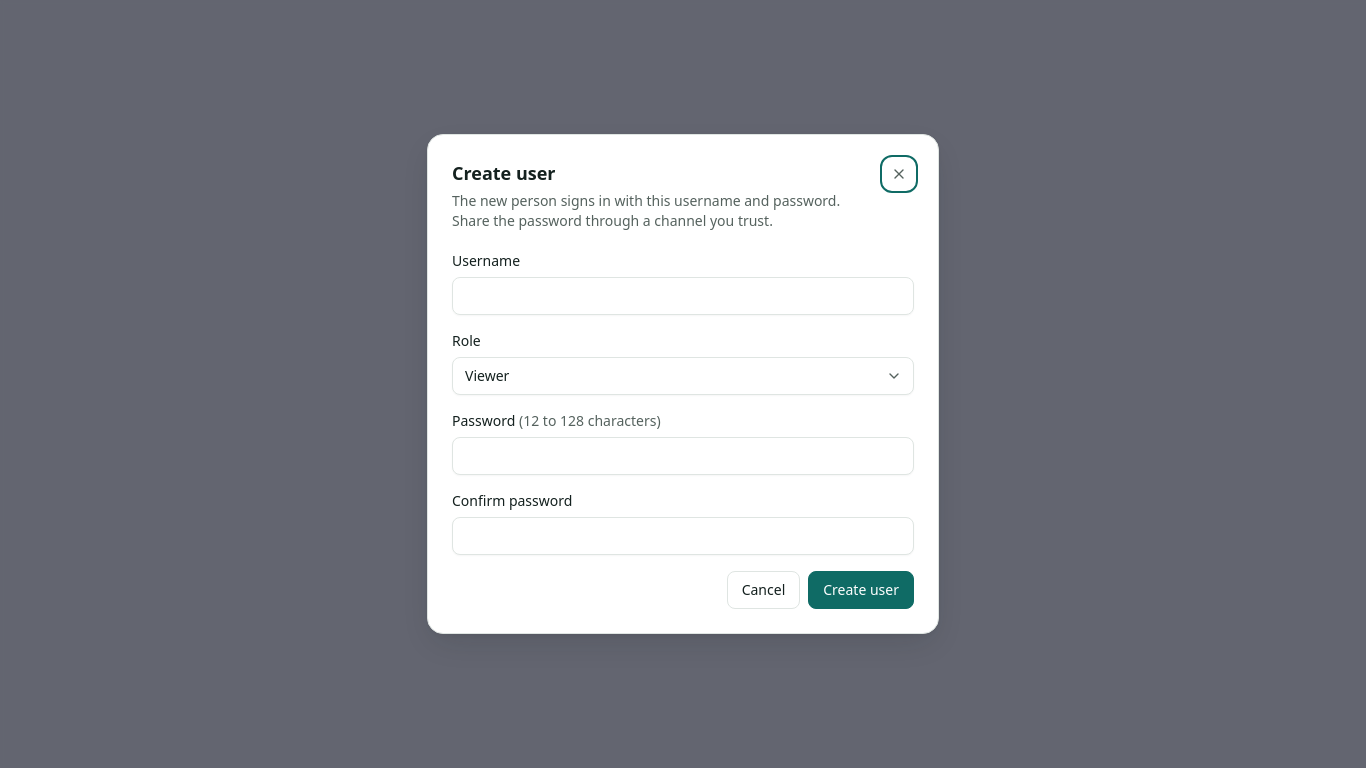
Scenario: CreateUserDialog › shows the 409 text inline when the username is taken
In the field labelled "Username": {"x": 683, "y": 296} [452,277,914,315], type "alice"
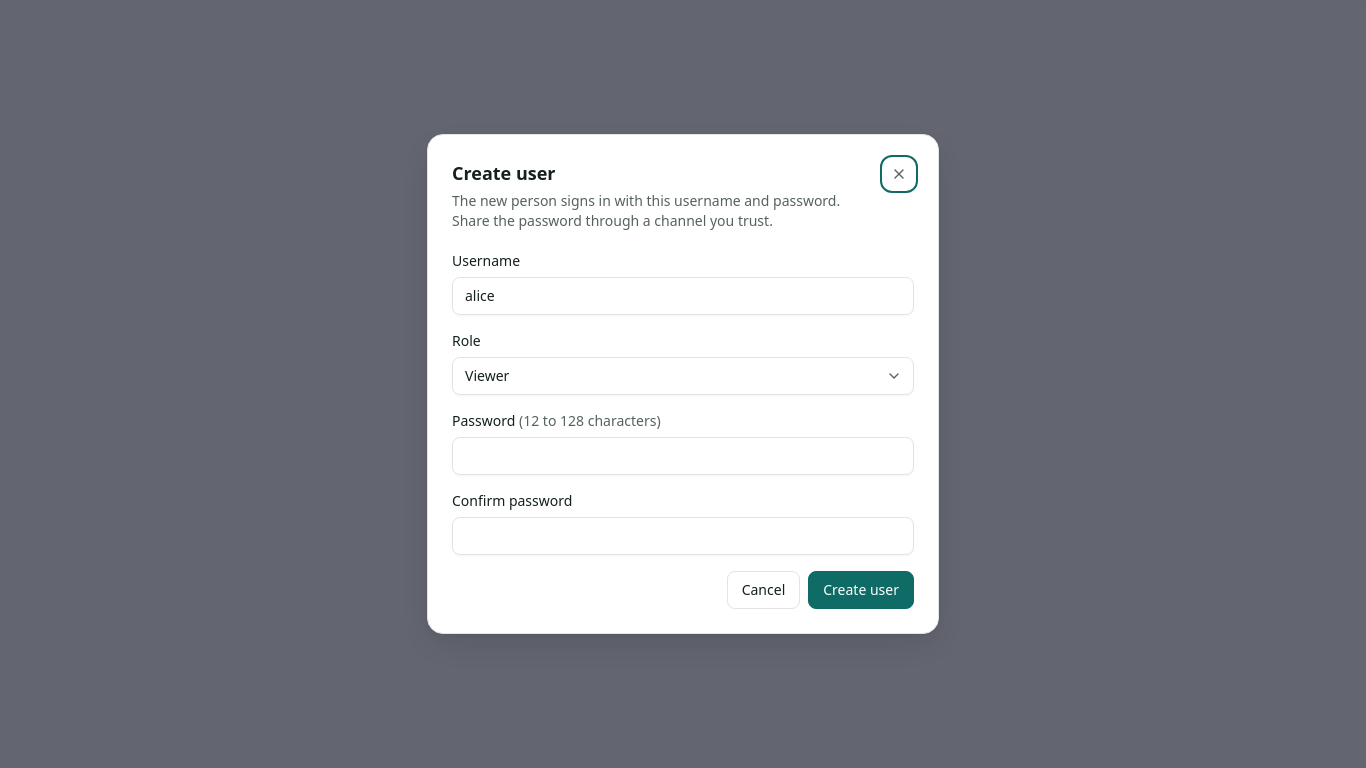
In the password field labelled "Password (12 to 128 characters)": {"x": 683, "y": 456} [452,437,914,475], type "correct-horse-battery"
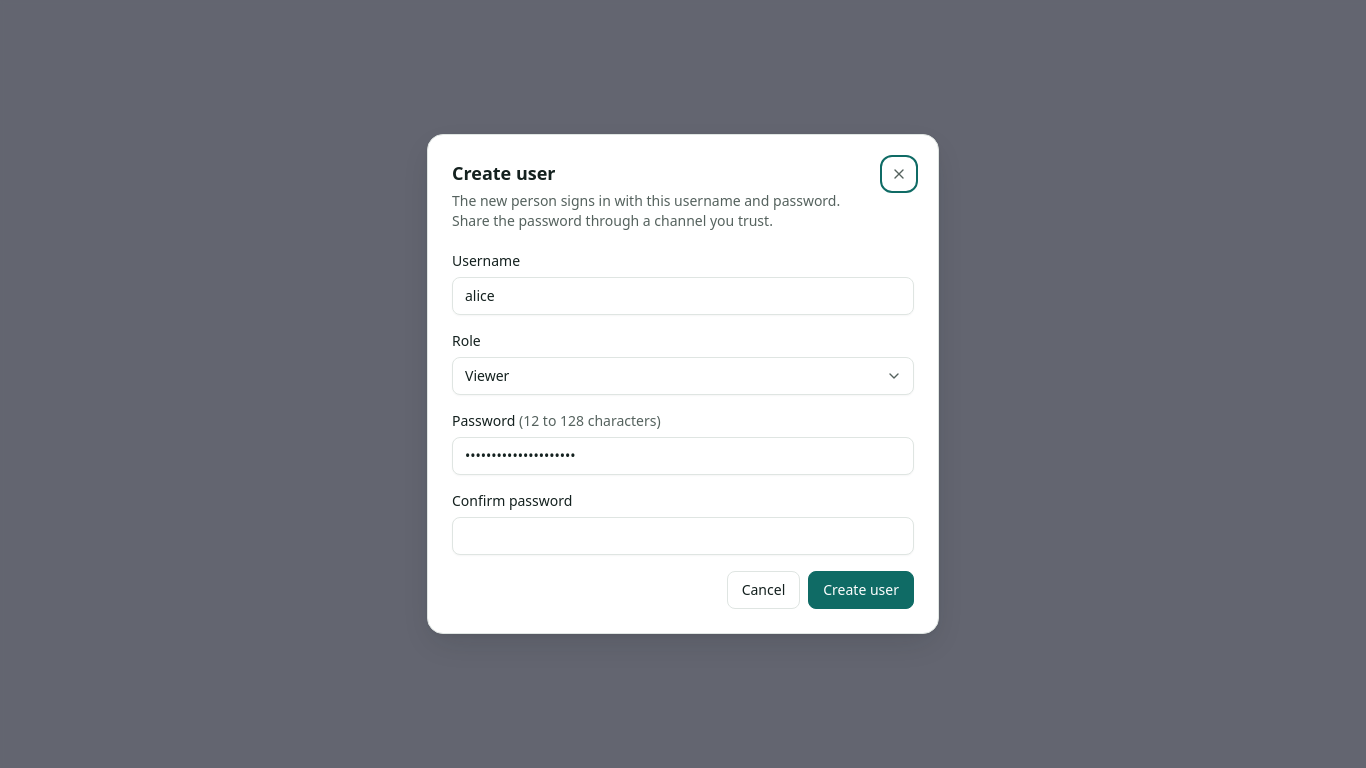
In the password field labelled "Confirm password": {"x": 683, "y": 536} [452,517,914,555], type "correct-horse-battery"
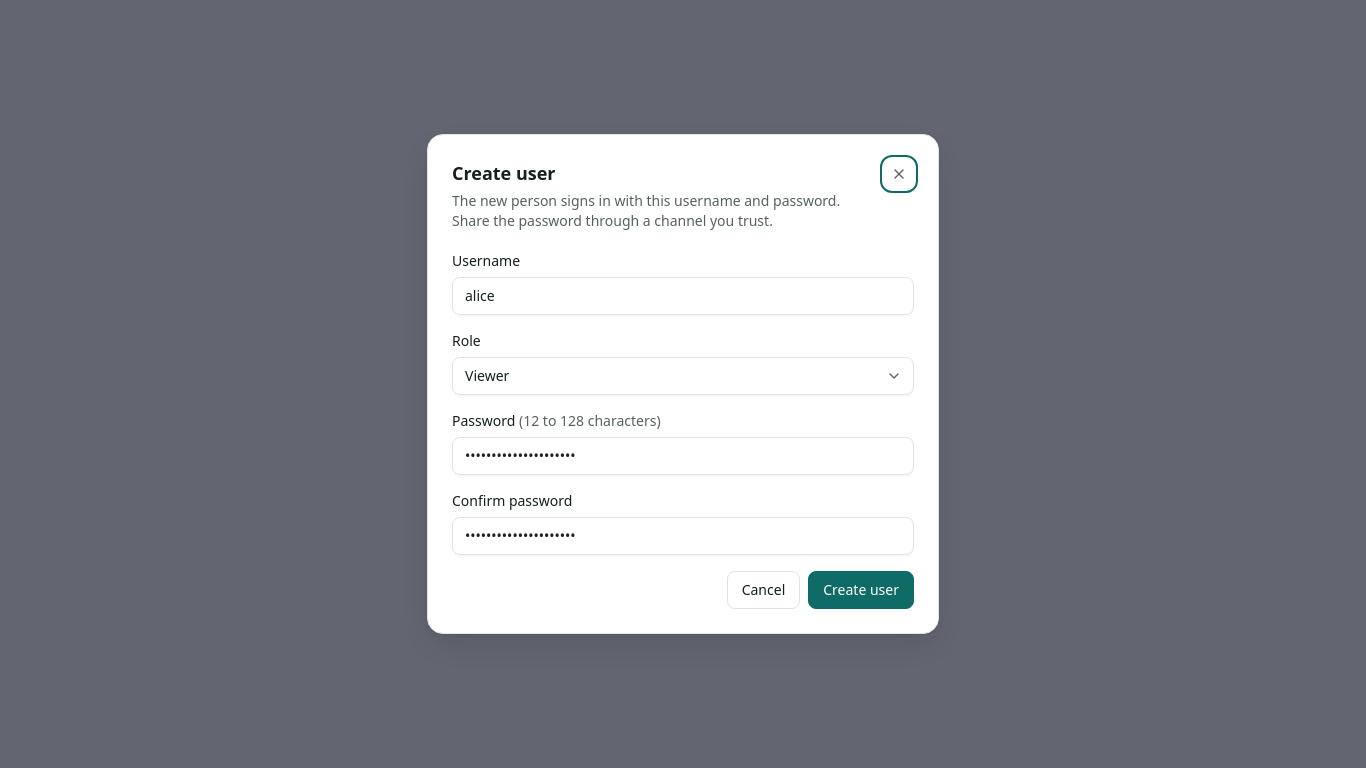
Click the button "Create user": {"x": 861, "y": 590} [808,571,914,609]
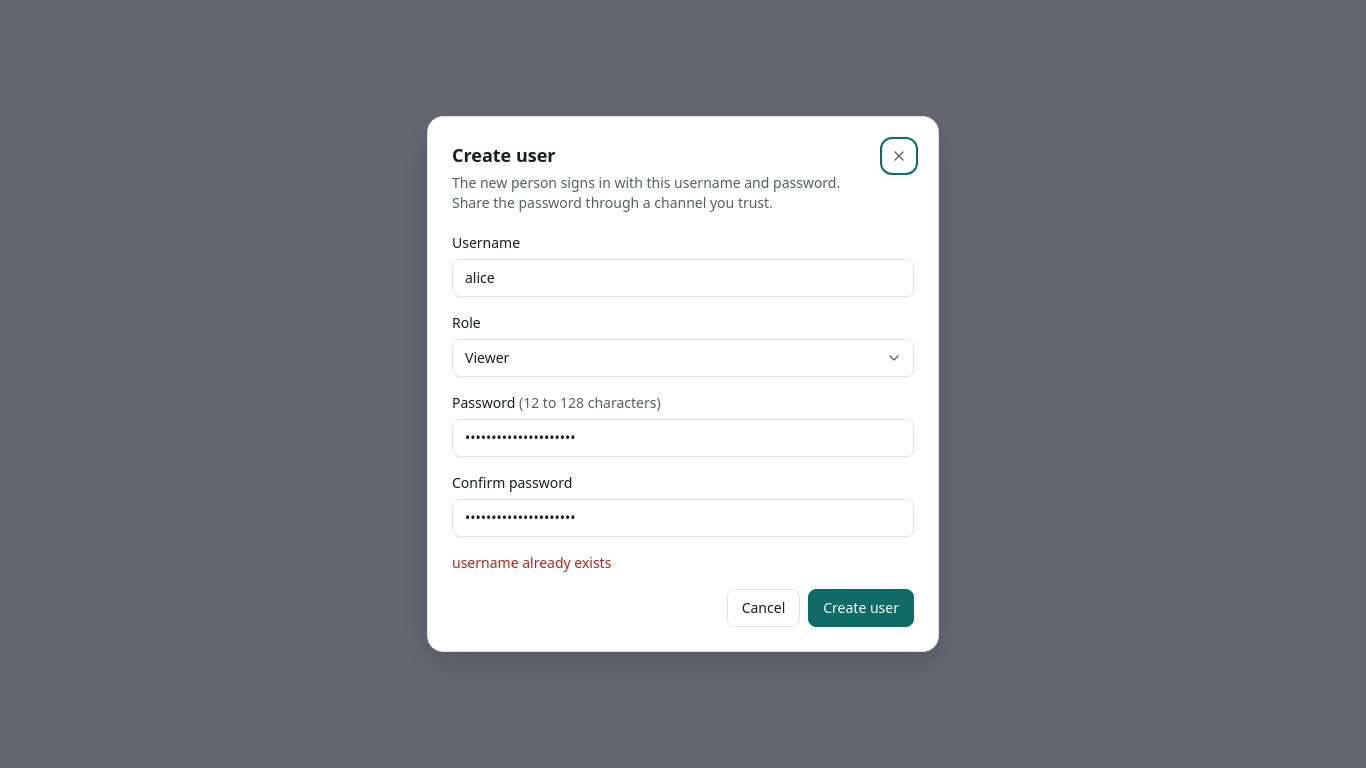
Now the message reads "username already exists", box [452,553,611,572]
